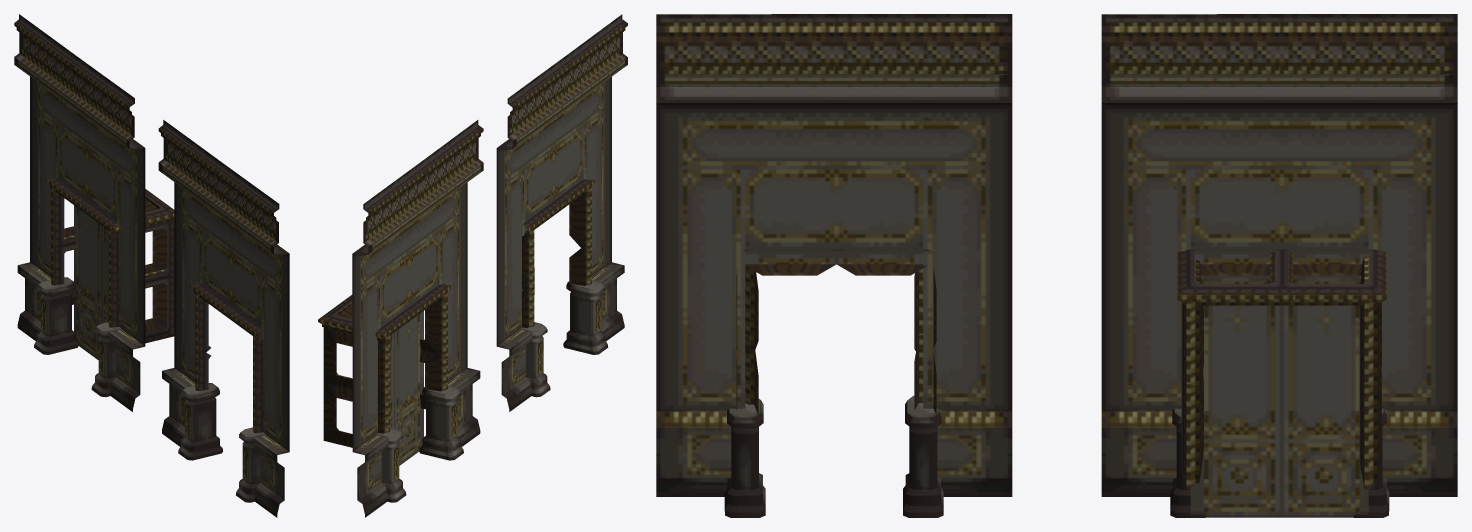
The model's file is EnvMdrMD_Mansion_C_Door_A.FBX.
The picture shows the model from 3 angles, left to right: view 1: azimuth 30°, elevation 25°; view 2: azimuth 150°, elevation 25°; view 3: azimuth 270°, elevation 25°; orthographic projection. The views are drawn at different scales.
Parts seen in each view (by area): view 1: EnvMdrMD_Mansion_C_Door_B, EnvMdrMD_Mansion_C_Door_A; view 2: EnvMdrMD_Mansion_C_Door_B, EnvMdrMD_Mansion_C_Door_A; view 3: EnvMdrMD_Mansion_C_Door_B, EnvMdrMD_Mansion_C_Door_A.
Part boxes in pixels (<box>): EnvMdrMD_Mansion_C_Door_B: <box>14,14,174,411</box>; EnvMdrMD_Mansion_C_Door_A: <box>158,120,289,517</box>; EnvMdrMD_Mansion_C_Door_B: <box>318,120,483,517</box>; EnvMdrMD_Mansion_C_Door_A: <box>496,14,627,411</box>; EnvMdrMD_Mansion_C_Door_B: <box>1101,14,1457,517</box>; EnvMdrMD_Mansion_C_Door_A: <box>656,14,1012,517</box>.
Bounding box in the file's own units: 156 × 600 × 900.
1 material, 1 textured.
